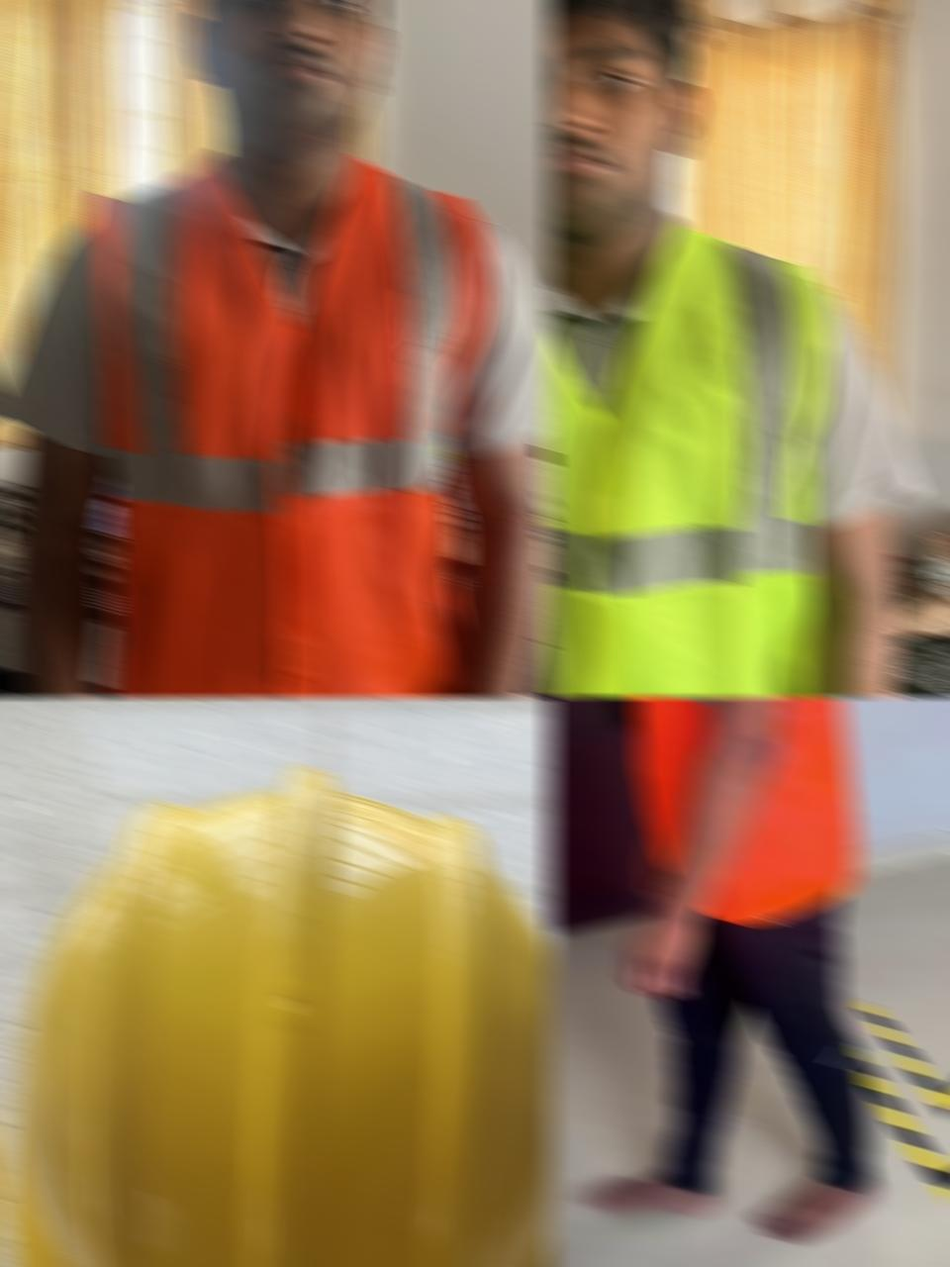BorderLine: (848, 1003, 950, 1267)
Helmet: (0, 761, 555, 1267)
No_Helmet: (189, 0, 395, 41)
Person: (0, 0, 555, 698), (545, 0, 926, 698), (575, 696, 879, 1245)
Vest: (83, 150, 491, 698), (545, 218, 834, 698), (631, 696, 861, 925)
